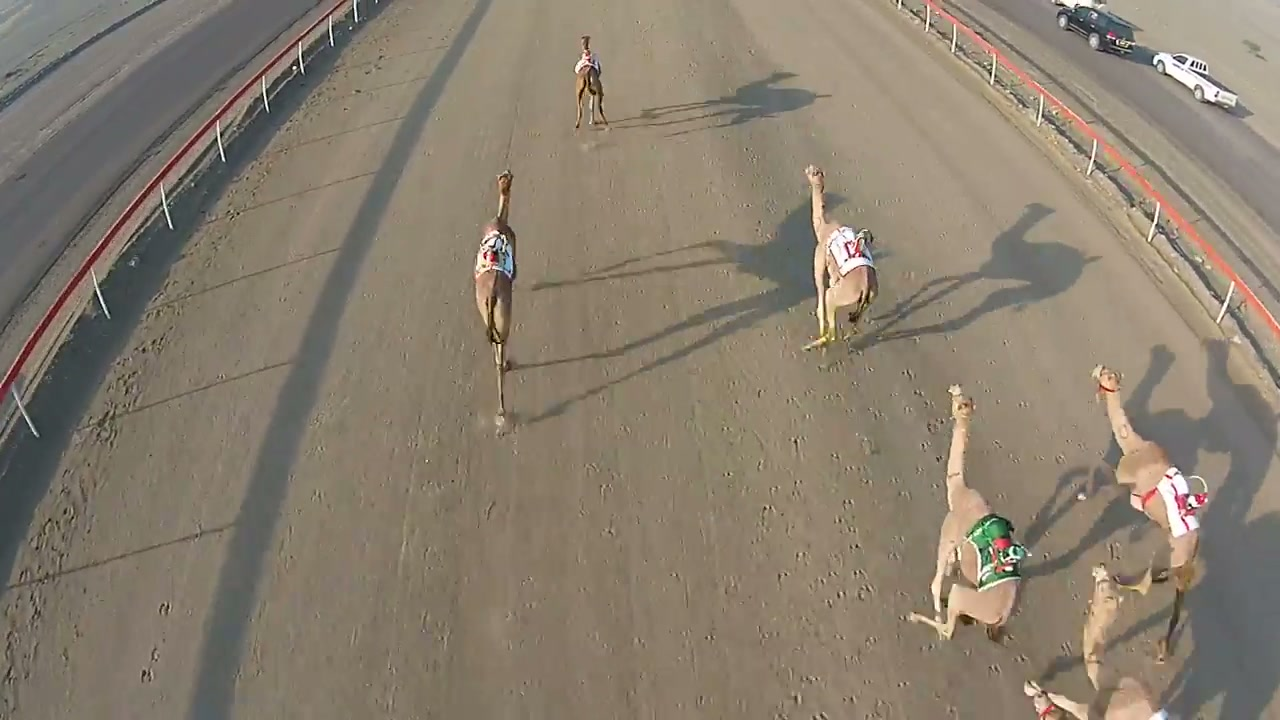animal_footprint: (719, 353, 897, 719)
